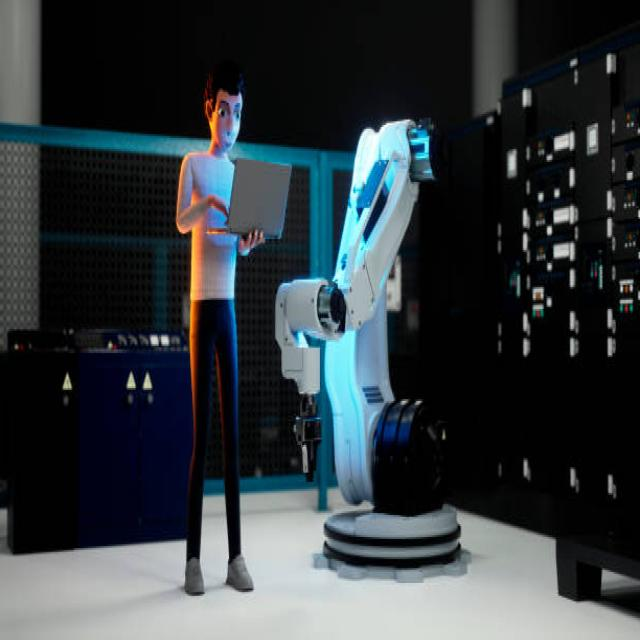Robotic-arm: (273, 106, 446, 493)
